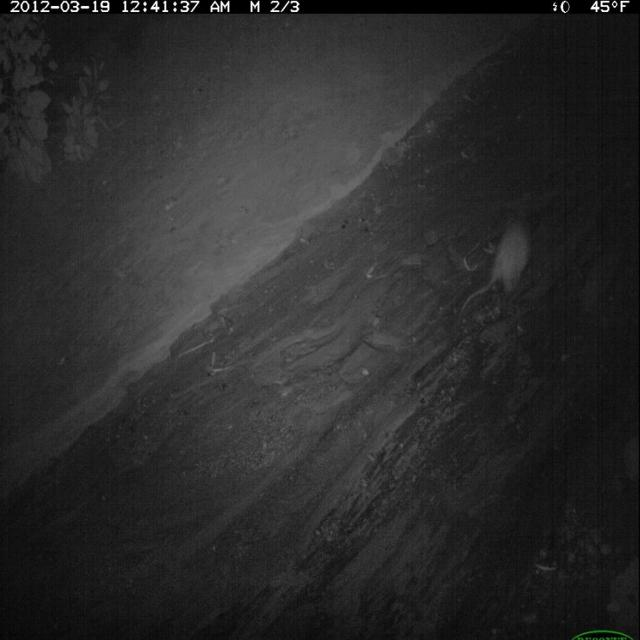opossum: (456, 208, 539, 324)
